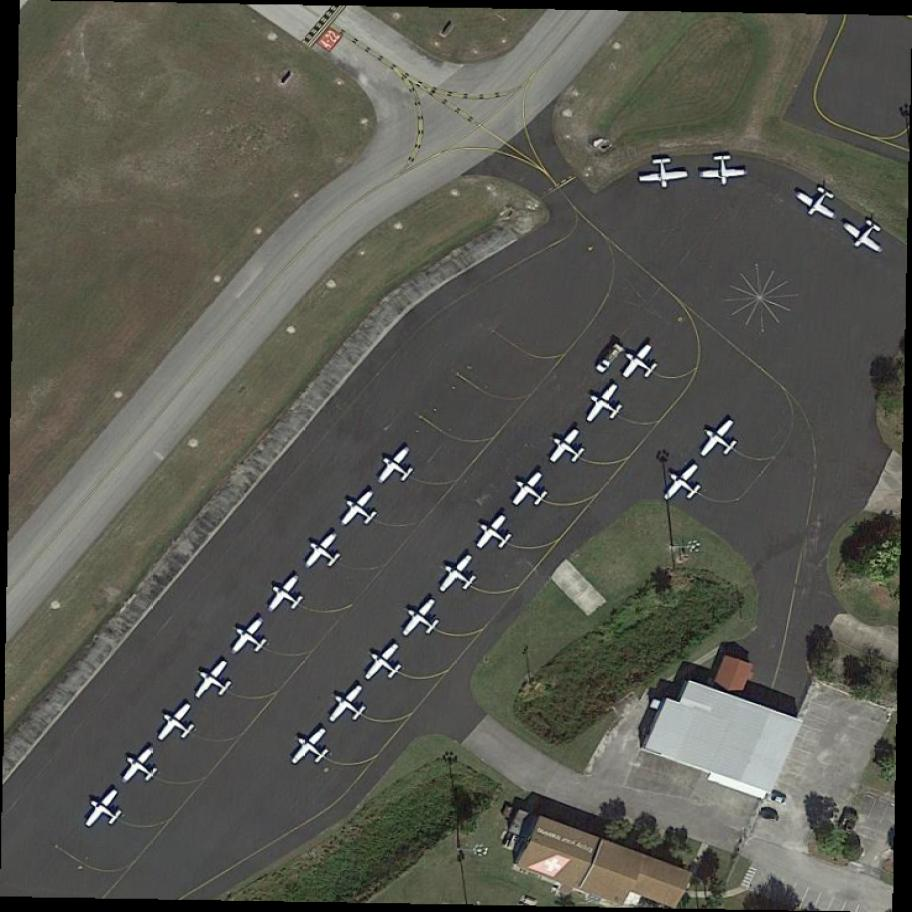large-vehicle: (596, 342, 628, 379)
plane: (353, 634, 413, 694), (690, 409, 749, 470), (835, 208, 896, 266), (655, 454, 713, 514), (429, 548, 487, 608), (392, 590, 450, 650), (184, 651, 242, 711), (281, 718, 339, 777), (148, 695, 205, 754), (610, 334, 667, 392), (112, 738, 169, 796), (221, 608, 278, 666), (321, 678, 377, 736), (368, 439, 424, 496), (578, 377, 633, 434), (260, 566, 314, 624), (791, 177, 848, 231), (78, 783, 132, 840), (540, 420, 594, 476), (502, 464, 556, 520), (466, 506, 520, 562), (334, 483, 388, 539), (298, 525, 351, 580), (638, 156, 690, 190), (699, 154, 748, 186)
small-vehicle: (840, 818, 859, 843), (758, 809, 782, 825), (767, 792, 790, 808)
